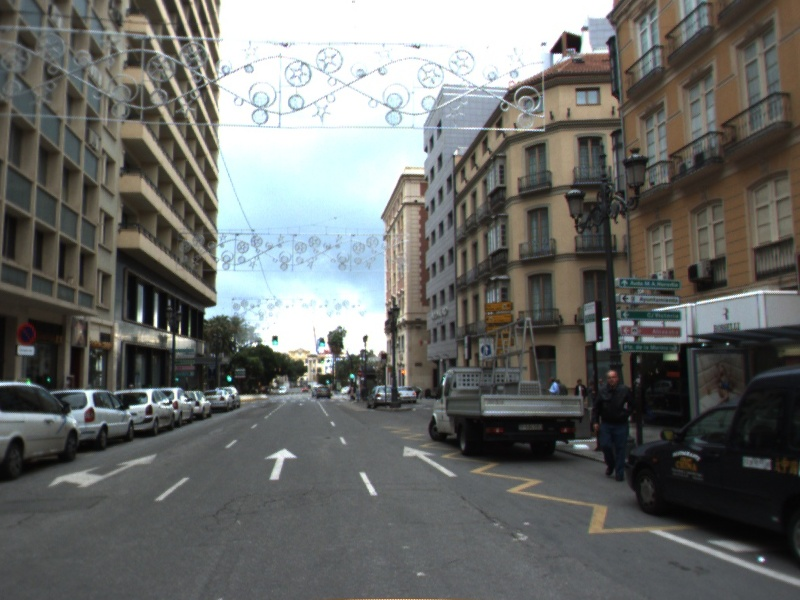STRAIGHT: (401, 443, 461, 479), (262, 446, 300, 482)
STRAIGHT_LEFT: (46, 451, 160, 490)
